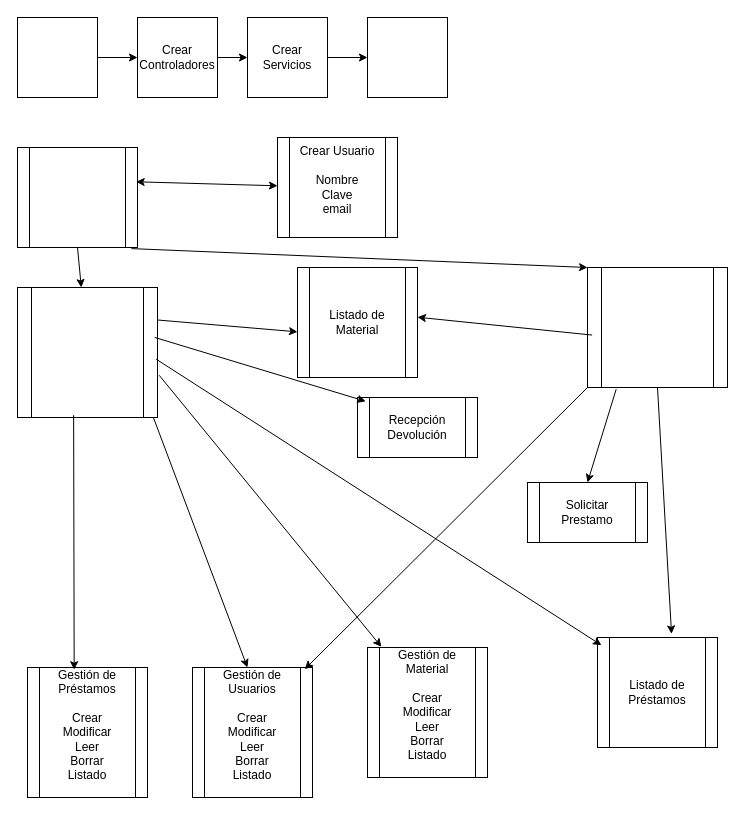
Some shapes in this 745 by 815 pixel diagram are drawn without their labels. The shapes that lost their labels are listed below. From the top down, each one's box as (x1, y1, x2, y2) in pixels, then its label:
(16, 16, 98, 98): Crear Entidades
(366, 16, 448, 98): Crear Repositorios
(16, 146, 138, 248): Login Usuario Clave Alta
(586, 266, 728, 388): Menú Usuario Listar Material Listado Préstamos Modificar Datos Solcitar Préstamo
(16, 286, 158, 418): Menú Administrador Gestión Material Gestión Usuarios Gestión Préstamos
